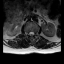CCS_normal: (30, 28, 32, 38)
LFS_normal: (34, 30, 36, 37)
LLS_normal: (32, 29, 34, 37)
RFS_normal: (26, 30, 28, 37)
RLS_normal: (28, 29, 30, 37)
